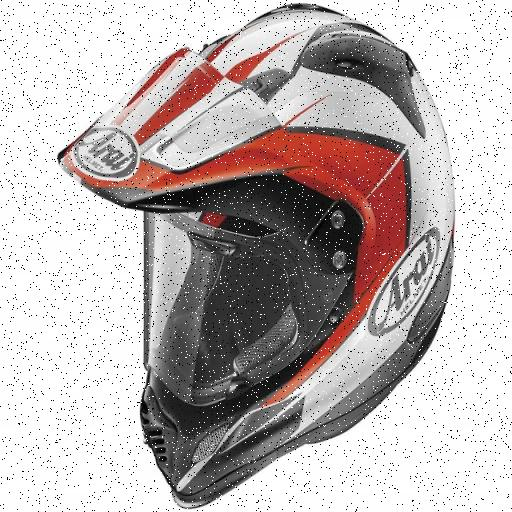Helmet: (52, 15, 474, 504)
